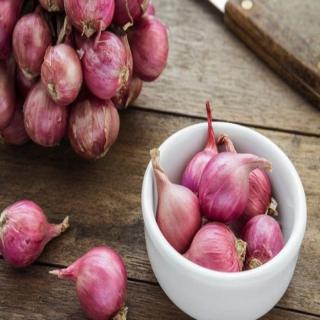Bawang Merah: (1, 1, 170, 161), (150, 100, 286, 273)
